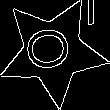O_E: (25, 27, 80, 76)
